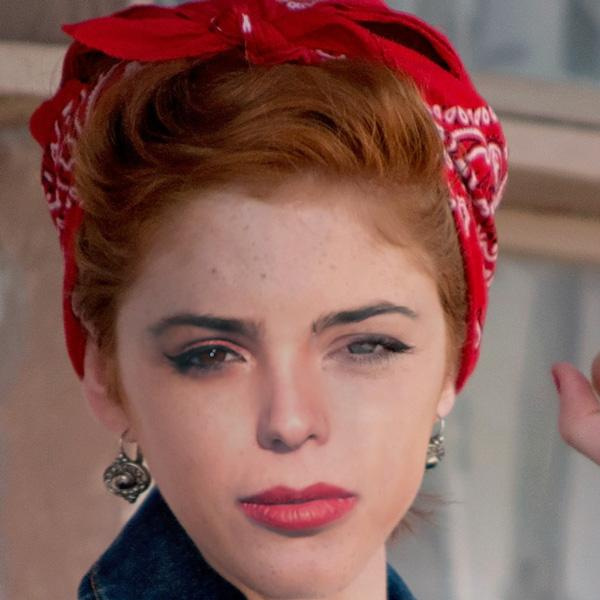Eyes: (315, 320, 411, 379), (159, 331, 258, 385)
